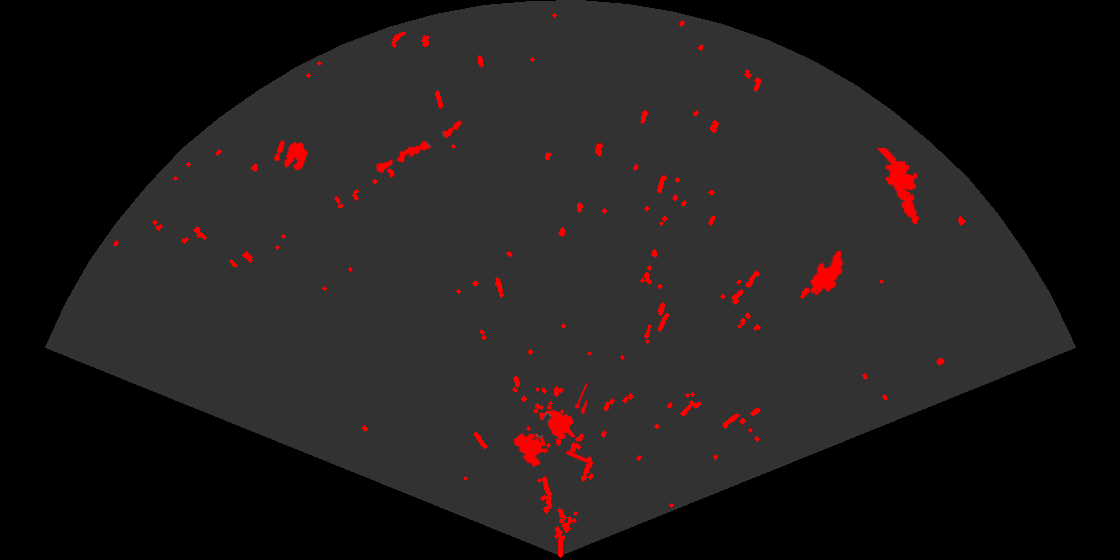AUV: (808, 249, 845, 297)
ball: (272, 139, 309, 172)
cage: (512, 383, 587, 469)
chain: (374, 119, 463, 175)
frogman: (875, 148, 921, 226)
